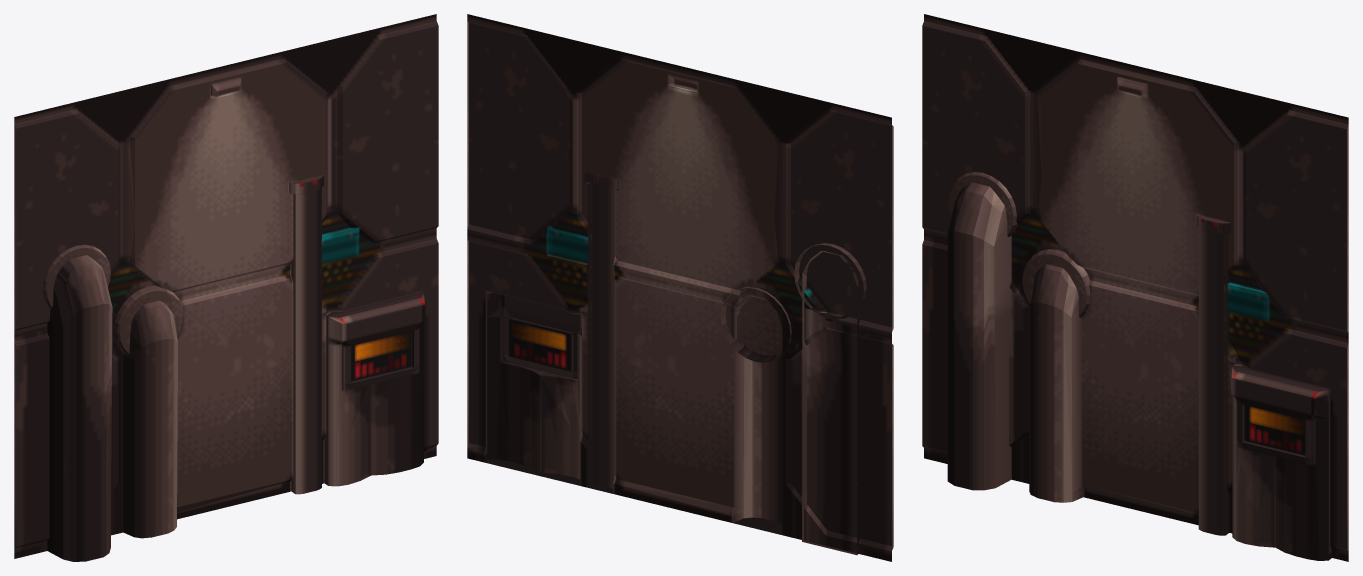
File: eng1_3.fbx
3 views of the same model, side by side, from view 1: azimuth 30°, elevation 25°; view 2: azimuth 150°, elevation 25°; view 3: azimuth 330°, elevation 25° (orthographic).
Visible parts, largest first — view 1: eng1_3_mesh; view 2: eng1_3_mesh; view 3: eng1_3_mesh.
Boxes of the visible parts, box(x1,y1,x2,y2) form: eng1_3_mesh: box(14, 14, 438, 561); eng1_3_mesh: box(467, 14, 893, 561); eng1_3_mesh: box(922, 14, 1348, 561).
Bounding box in the file's own units: 256 × 256 × 23.48.
